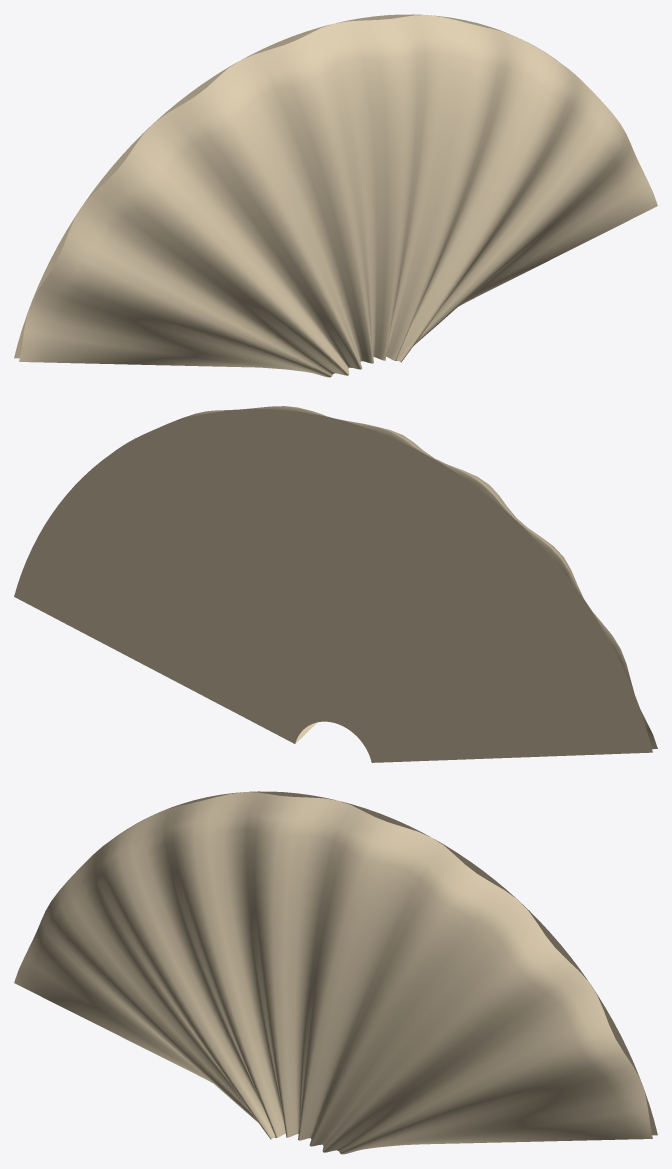
File: shell.obj
3 renders of one model, top to bottom at view 1: azimuth 30°, elevation 25°; view 2: azimuth 150°, elevation 25°; view 3: azimuth 330°, elevation 25°, orthographic.
Size of the model in its own units: 0.1449 by 0.0727 by 0.018.
